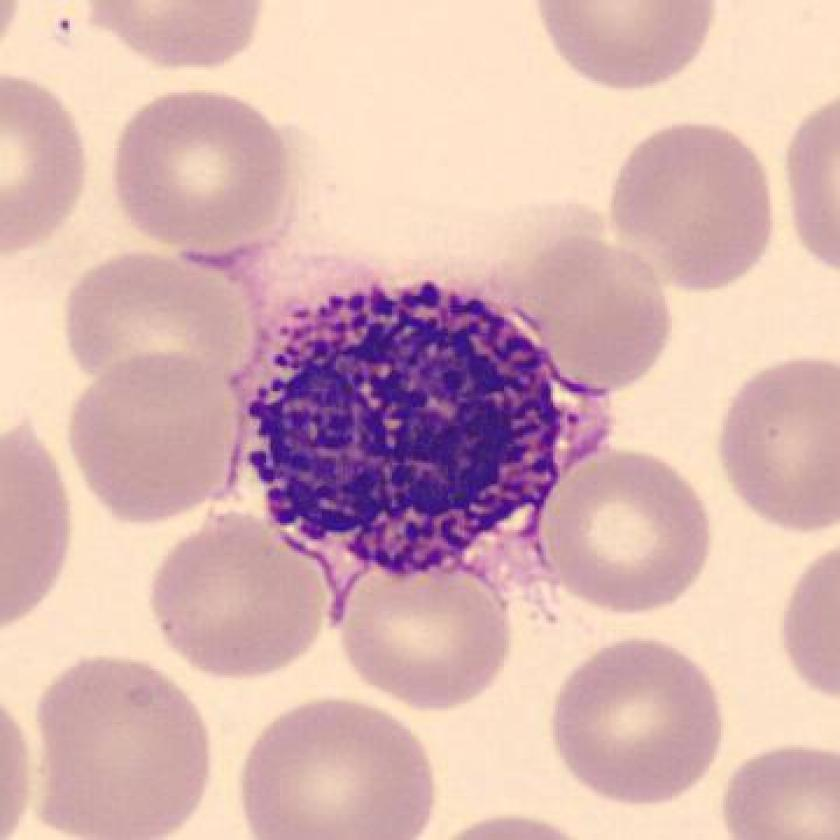basophil: (246, 272, 596, 580)
